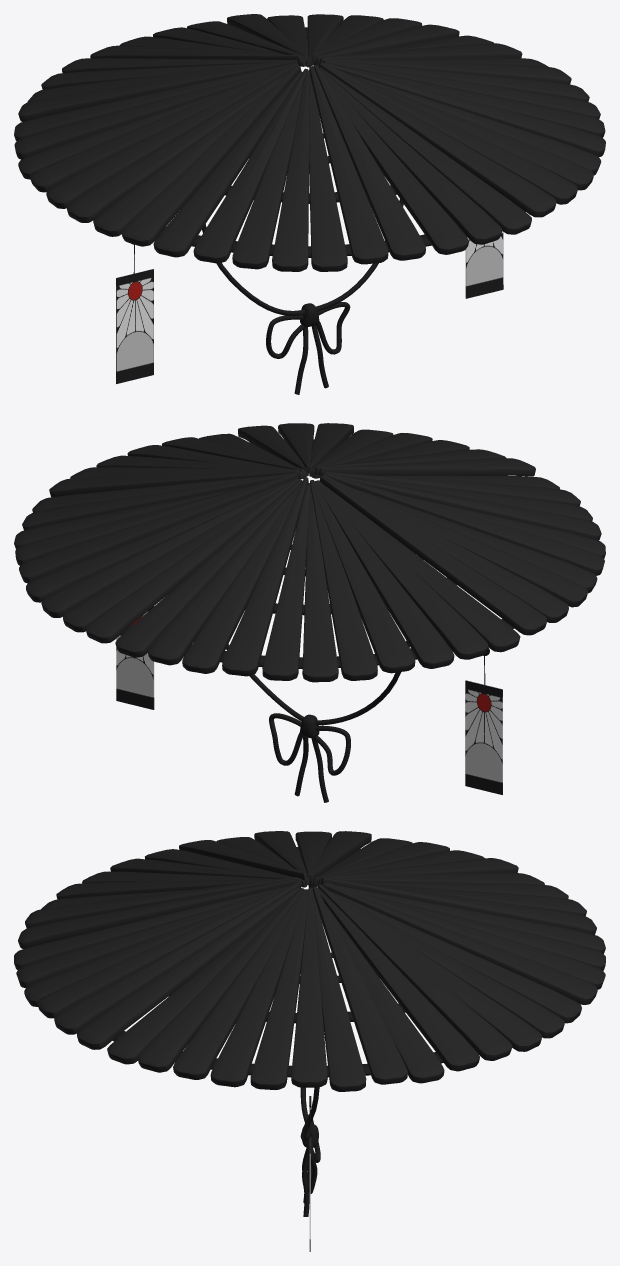
File: samurai-hat-compressed.glb
3 views of the same model, one above another, from view 1: azimuth 30°, elevation 25°; view 2: azimuth 150°, elevation 25°; view 3: azimuth 270°, elevation 25° (orthographic).
Visible parts, largest first — view 1: Cube.007_Material.001_0, Cube.007_Material.003_0, Cube.007_Material.002_0; view 2: Cube.007_Material.001_0, Cube.007_Material.003_0, Cube.007_Material.002_0; view 3: Cube.007_Material.001_0, Cube.007_Material.002_0.
Part boxes in pixels (<box>): Cube.007_Material.001_0: <box>14,14,605,271</box>; Cube.007_Material.003_0: <box>116,231,503,383</box>; Cube.007_Material.002_0: <box>131,27,525,394</box>; Cube.007_Material.001_0: <box>14,423,605,682</box>; Cube.007_Material.003_0: <box>116,607,502,794</box>; Cube.007_Material.002_0: <box>120,439,514,802</box>; Cube.007_Material.001_0: <box>14,831,605,1091</box>; Cube.007_Material.002_0: <box>112,847,443,1216</box>.
Size of the model in its own units: 6.85 by 4.21 by 6.82.
4 materials, 1 textured.
